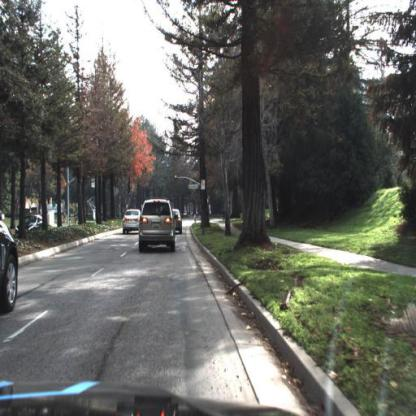biker: (63, 210, 67, 225)
car: (135, 195, 181, 258), (1, 203, 21, 321), (123, 208, 145, 233), (174, 207, 184, 233)
pedestrian: (74, 212, 79, 225), (222, 207, 226, 222)
trafficLight-Red: (175, 173, 179, 183)
